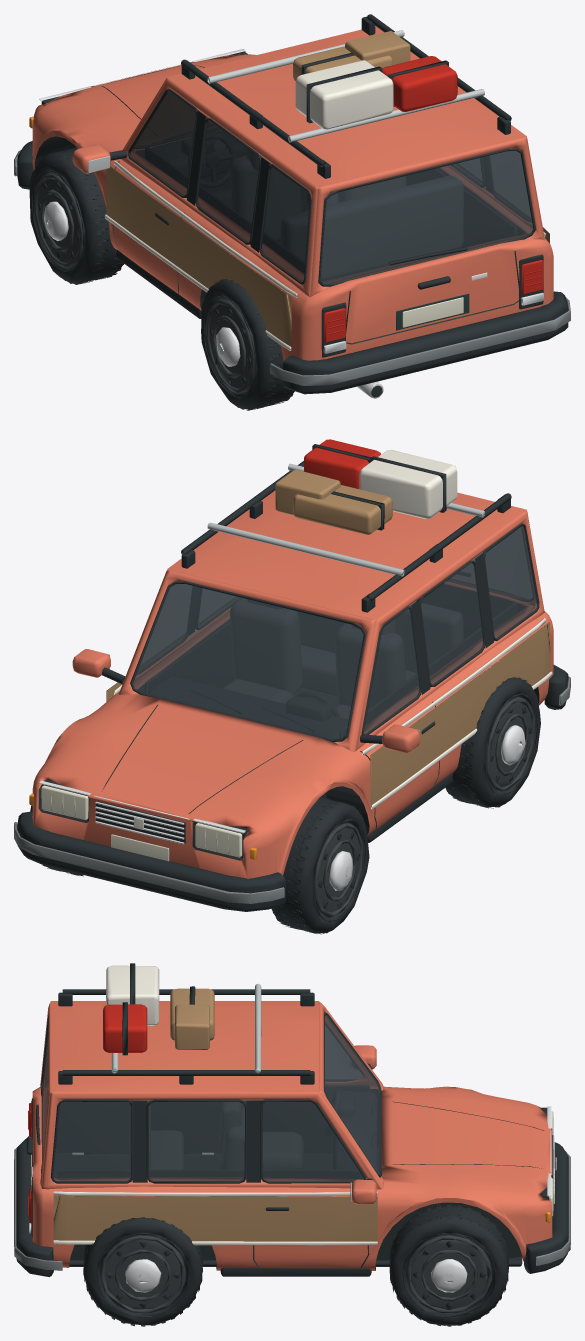
Rendered from heron_lod2.fbx.
The picture shows the model from 3 angles, top to bottom: view 1: azimuth 30°, elevation 25°; view 2: azimuth 150°, elevation 25°; view 3: azimuth 270°, elevation 25°; orthographic projection. The views are drawn at different scales.
Visible parts, largest first — view 1: Body, Wheel_FL_Mesh, Wheel_RL_Mesh; view 2: Body, Wheel_FL_Mesh, Wheel_RL_Mesh; view 3: Body, Wheel_FR_Mesh, Wheel_RR_Mesh.
Part boxes in pixels (bbox=[...]): Body: bbox=[14, 14, 570, 398]; Wheel_FL_Mesh: bbox=[29, 147, 123, 284]; Wheel_RL_Mesh: bbox=[201, 279, 294, 410]; Body: bbox=[14, 439, 570, 911]; Wheel_FL_Mesh: bbox=[271, 797, 369, 934]; Wheel_RL_Mesh: bbox=[445, 677, 540, 808]; Body: bbox=[14, 963, 570, 1277]; Wheel_FR_Mesh: bbox=[389, 1204, 508, 1326]; Wheel_RR_Mesh: bbox=[83, 1217, 202, 1326].
Bounding box in the file's own units: 233 × 204 × 373.
